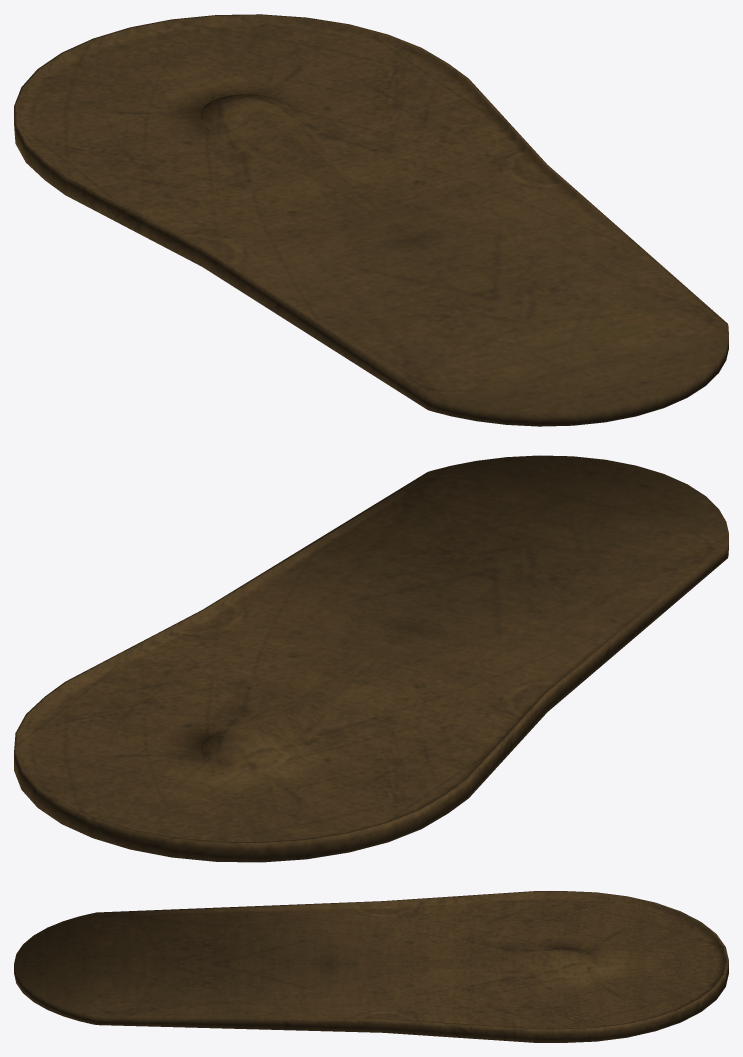
File: dwemer_shield.fbx
The picture shows the model from 3 angles, top to bottom: view 1: azimuth 30°, elevation 25°; view 2: azimuth 150°, elevation 25°; view 3: azimuth 270°, elevation 25°; orthographic projection. The views are drawn at different scales.
Visible parts, largest first — view 1: Sphere; view 2: Sphere; view 3: Sphere.
Part boxes in pixels (box(x1,y1,x2,y2)): Sphere: box(14, 14, 728, 426); Sphere: box(14, 455, 728, 862); Sphere: box(14, 891, 728, 1042).
Bounding box in the file's own units: 200 × 435 × 13.74.
1 material, 1 textured.
